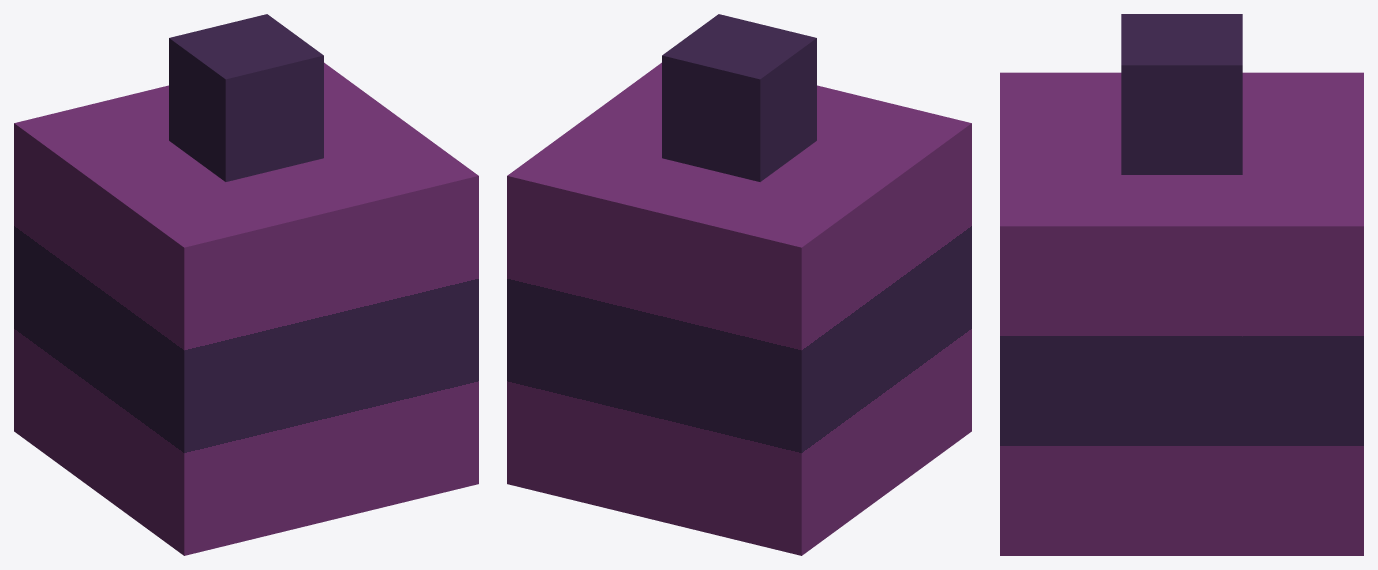
File: bottle_01.fbx
The picture shows the model from 3 angles, left to right: view 1: azimuth 30°, elevation 25°; view 2: azimuth 150°, elevation 25°; view 3: azimuth 270°, elevation 25°; orthographic projection. The views are drawn at different scales.
Parts seen in each view (by area): view 1: bottle_01_0; view 2: bottle_01_0; view 3: bottle_01_0.
Part boxes in pixels (bbox=[...]): bottle_01_0: bbox=[14, 14, 478, 555]; bottle_01_0: bbox=[507, 14, 971, 555]; bottle_01_0: bbox=[1000, 14, 1363, 555].
Bounding box in the file's own units: 300 × 300 × 400.
